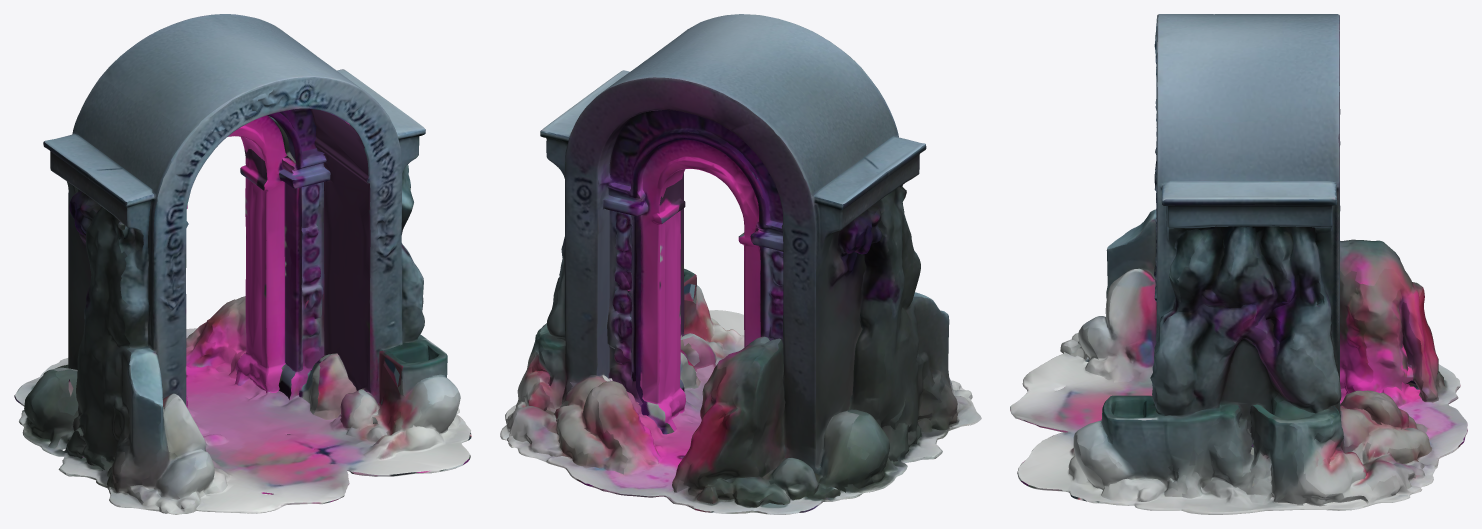
Rendered from wasteland-archway-generated-2026-05-17T19-07-26-612Z.high.glb.
3 views of the same model, side by side, from view 1: azimuth 30°, elevation 25°; view 2: azimuth 150°, elevation 25°; view 3: azimuth 270°, elevation 25° (orthographic). The views are drawn at different scales.
Parts seen in each view (by area): view 1: temp_mesh.ply; view 2: temp_mesh.ply; view 3: temp_mesh.ply.
Part boxes in pixels (box(x1,y1,x2,y2)): temp_mesh.ply: box(14, 14, 471, 514); temp_mesh.ply: box(500, 14, 981, 514); temp_mesh.ply: box(1010, 14, 1467, 514).
Bounding box in the file's own units: 1.96 × 1.87 × 1.97.
Materials: 1 (1 with a texture image).
